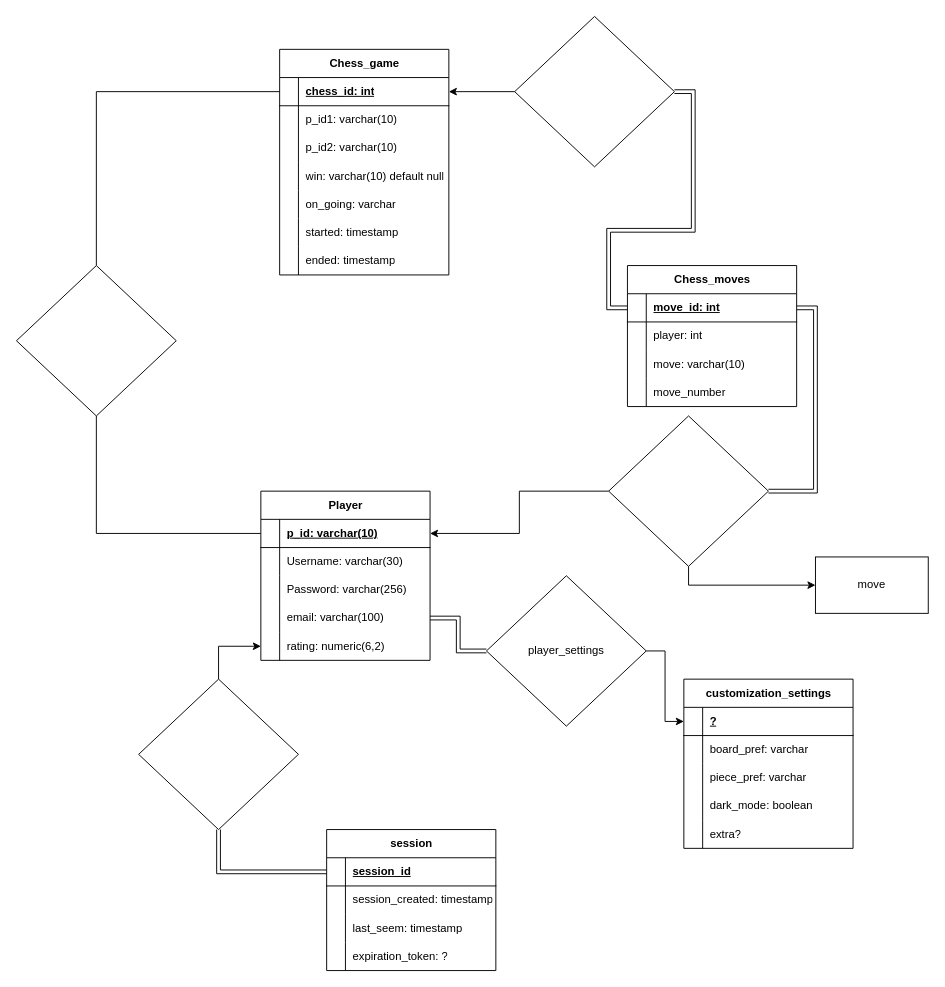
This 945x987 diagram has some shape labels left out. Here are the shapes that lost their labels. From the top down, the centre of each, then its label:
the point at 594,91: chessgame_moves
the point at 96,340: plays
the point at 688,490: play_move
the point at 218,754: user_session
